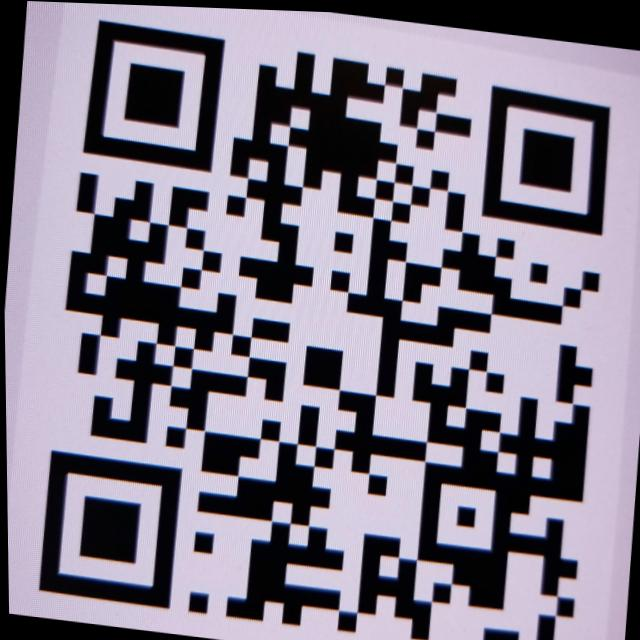QR_CODE: (6, 0, 640, 640)
